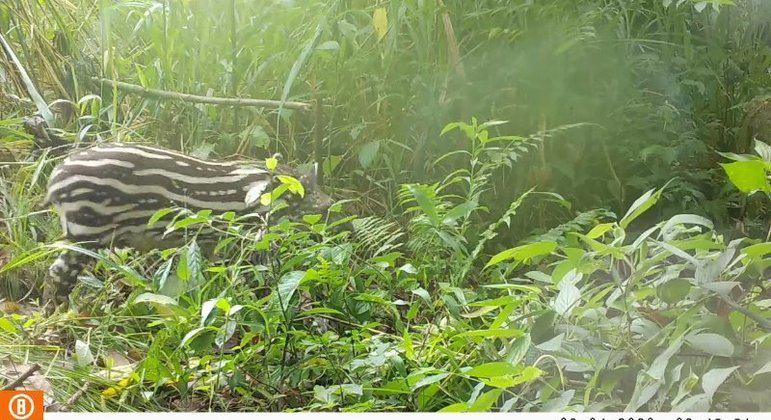Anta: (34, 128, 350, 329)
